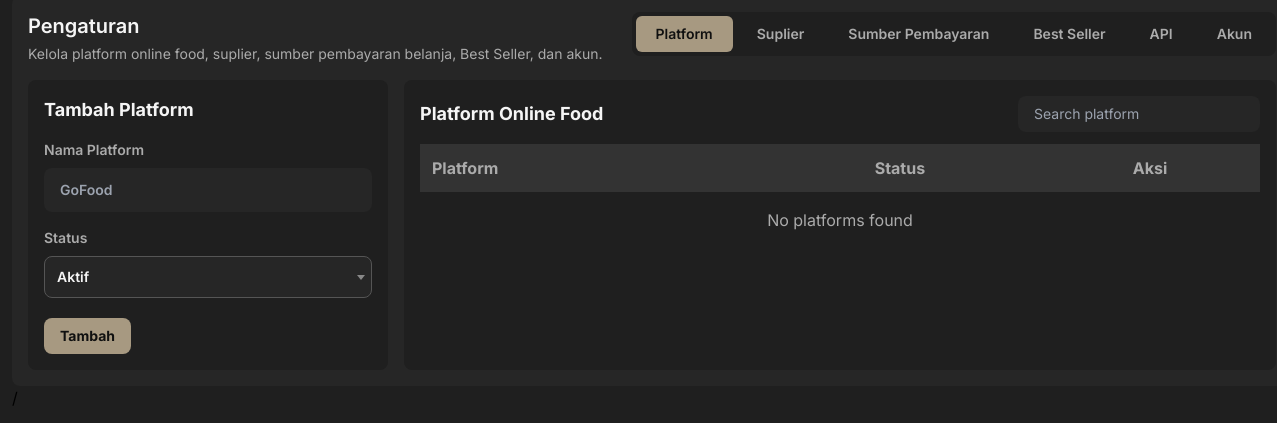
Test: settings: API › shows the loyalty URL and its key censored but its end, in a field that can be typed over
Click the button "API". click: (1161, 34)
box: [1130, 16, 1193, 52]
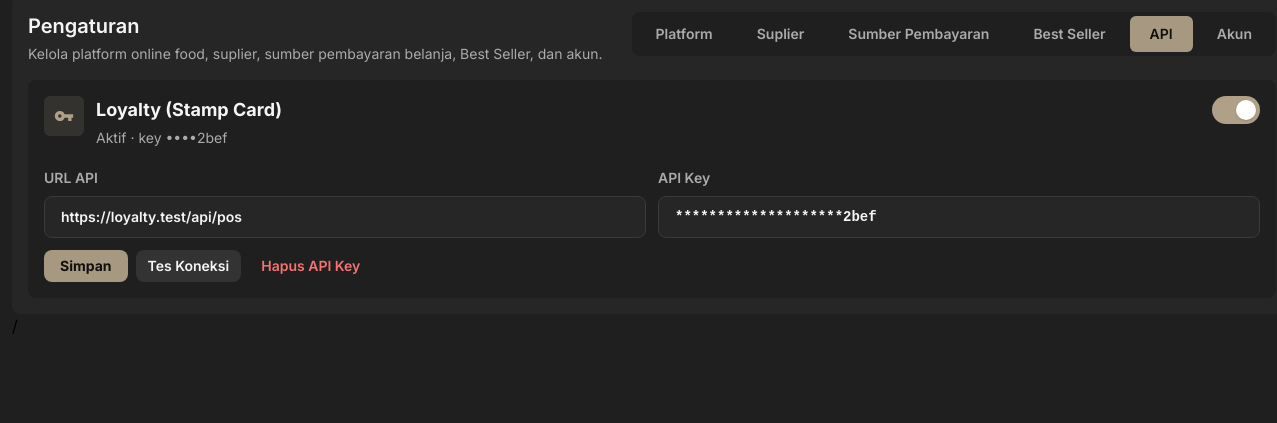
Result: the text "Aktif · key ••••2bef" is shown at [96, 129, 227, 146]
Result: the field labelled "URL API" holds "https://loyalty.test/api/pos" at [44, 196, 646, 238]
Result: the field labelled "API Key" holds "********************2bef" at [658, 196, 1260, 238]
